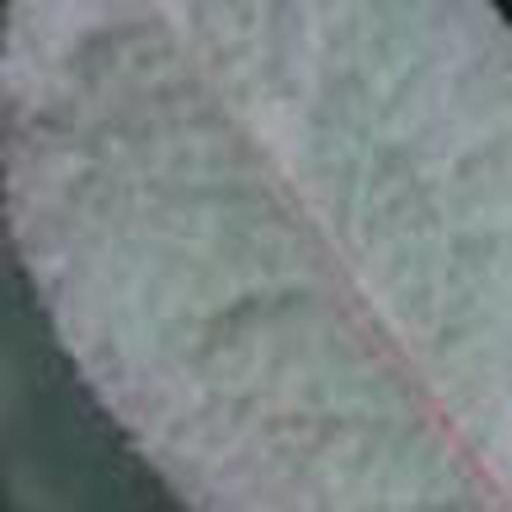powdery_mildew: (2, 0, 512, 512)
